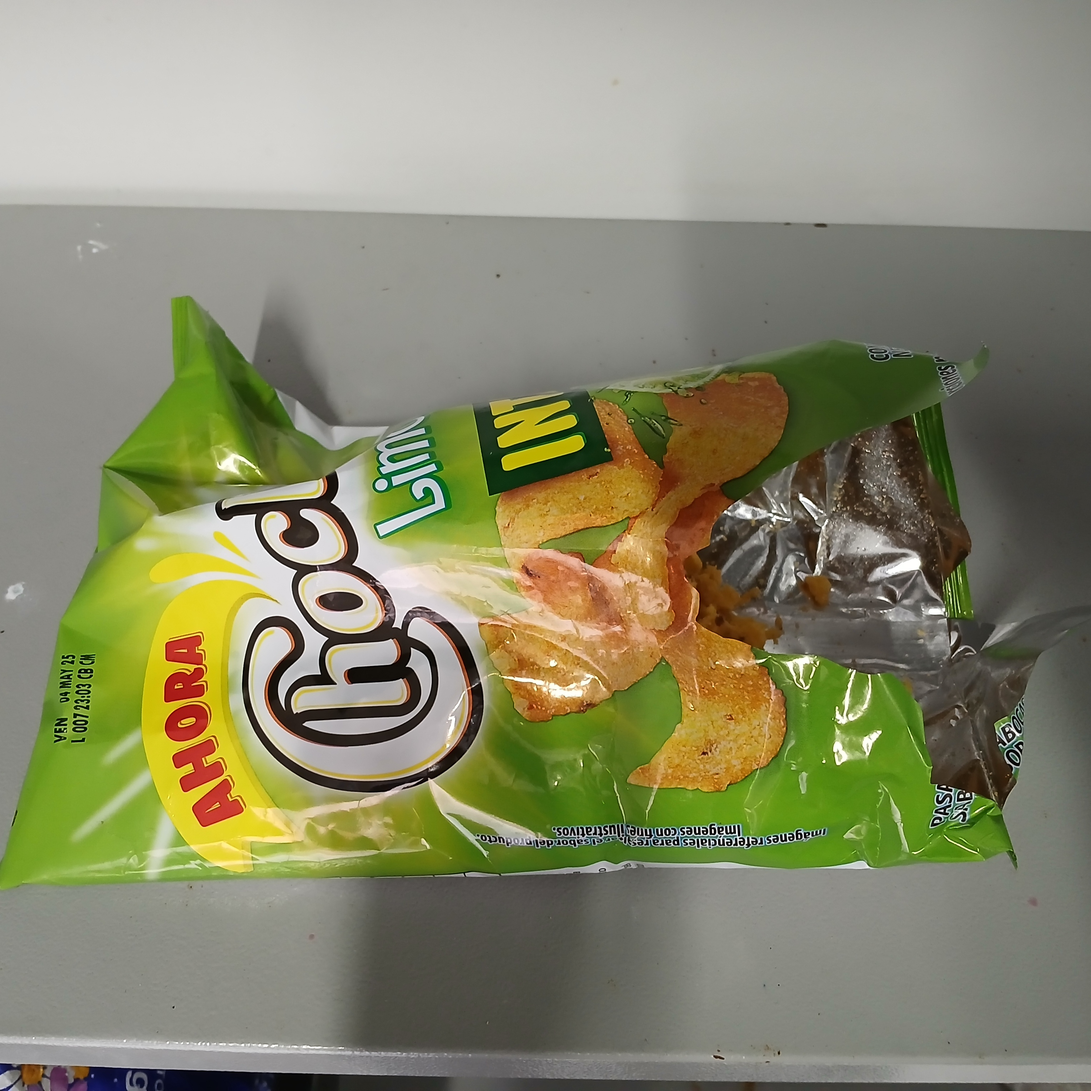Ordinario: (0, 297, 1018, 889)
